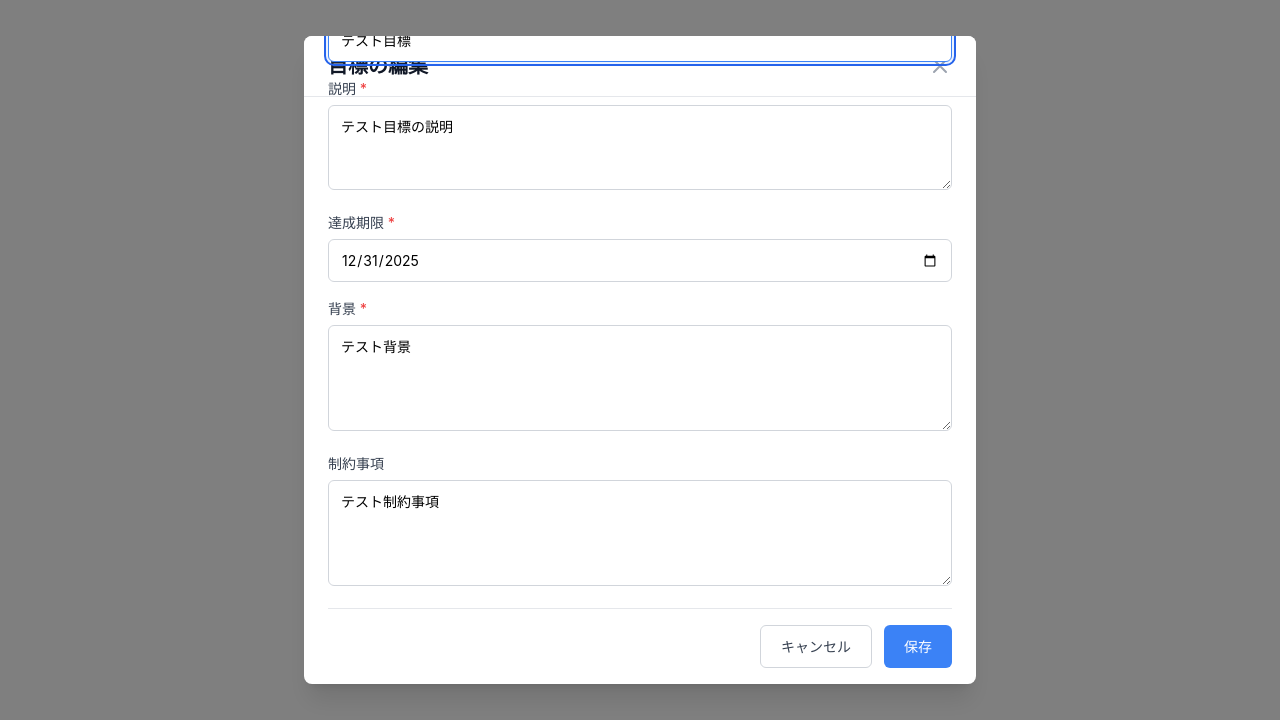
it: EditModal › 保存処理 › 保存中は保存ボタンが無効化される
(page scrolled)
Click the button "保存" at [918, 646], box [884,625,952,668]
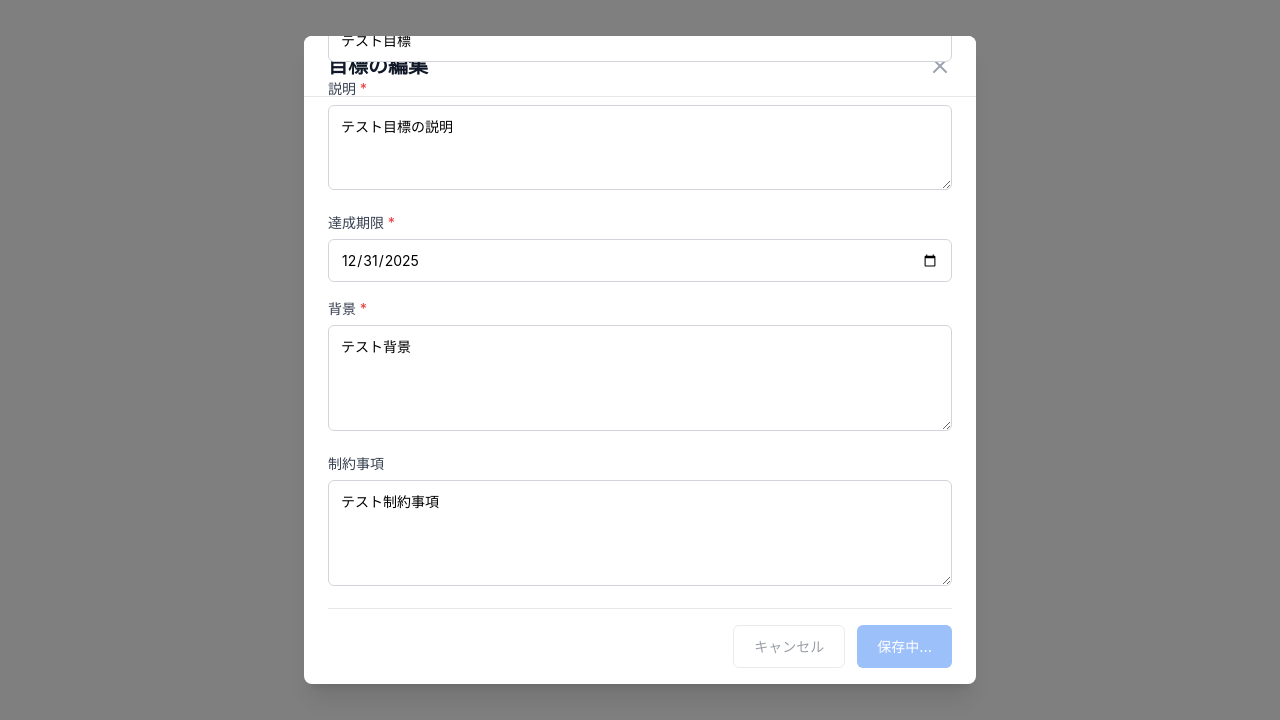
Check: the button "保存中..." is disabled, box [857,625,952,668]
